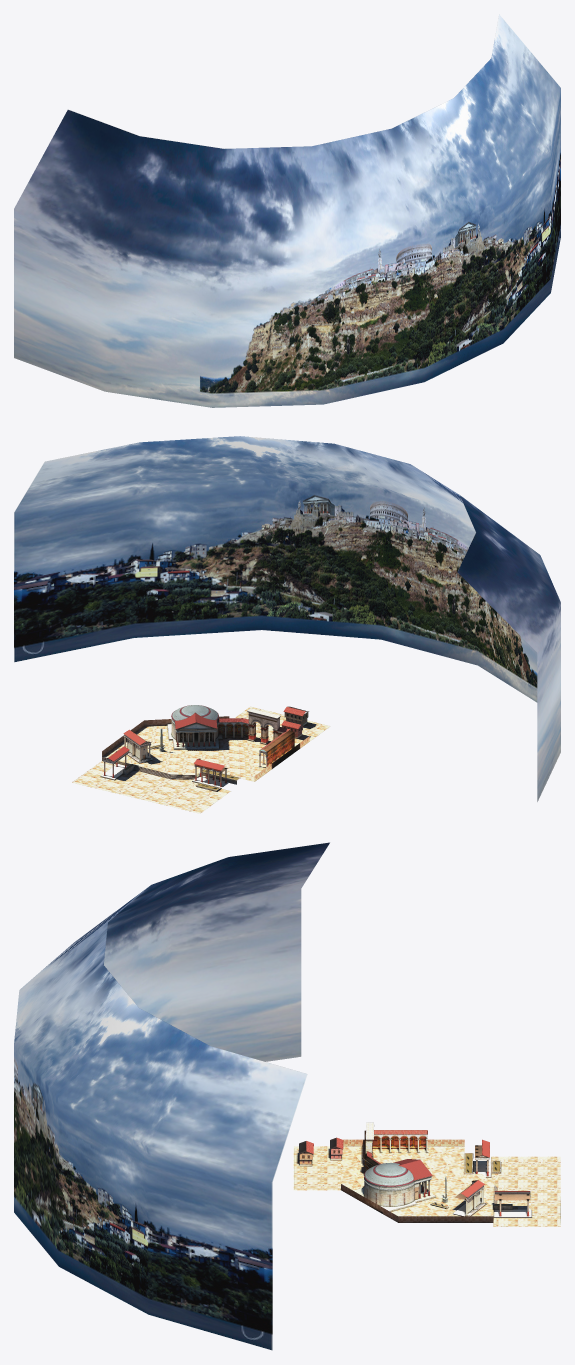
3 renders of one model, top to bottom at view 1: azimuth 30°, elevation 25°; view 2: azimuth 150°, elevation 25°; view 3: azimuth 270°, elevation 25°, orthographic. The views are drawn at different scales.
Parts seen in each view (by area): view 1: Object_4; view 2: Object_4, Object_12, Object_24, Object_10, Object_16, Object_15, Object_21, Object_13, Object_17, Object_22, Object_23; view 3: Object_4, Object_12, Object_10, Object_16, Object_11, Object_22, Object_21, Object_17.
Boxes of the visible parts, x1=… form: Object_4: x1=14, y1=14, x2=560, y2=407; Object_4: x1=14, y1=436, x2=560, y2=801; Object_12: x1=72, y1=706, x2=330, y2=813; Object_24: x1=102, y1=723, x2=222, y2=779; Object_10: x1=171, y1=705, x2=218, y2=729; Object_16: x1=259, y1=727, x2=294, y2=767; Object_15: x1=247, y1=708, x2=280, y2=744; Object_21: x1=123, y1=729, x2=153, y2=763; Object_13: x1=217, y1=718, x2=248, y2=738; Object_17: x1=281, y1=706, x2=308, y2=738; Object_22: x1=100, y1=746, x2=129, y2=780; Object_23: x1=123, y1=744, x2=240, y2=791; Object_4: x1=14, y1=842, x2=329, y2=1350; Object_12: x1=293, y1=1139, x2=560, y2=1226; Object_10: x1=364, y1=1159, x2=432, y2=1186; Object_16: x1=364, y1=1130, x2=427, y2=1152; Object_11: x1=364, y1=1177, x2=418, y2=1206; Object_22: x1=493, y1=1191, x2=531, y2=1217; Object_21: x1=453, y1=1180, x2=487, y2=1216; Object_17: x1=298, y1=1137, x2=343, y2=1166.
Bounding box in the file's own units: 1375 × 548 × 1082.
Materials: 18 (16 with a texture image).
